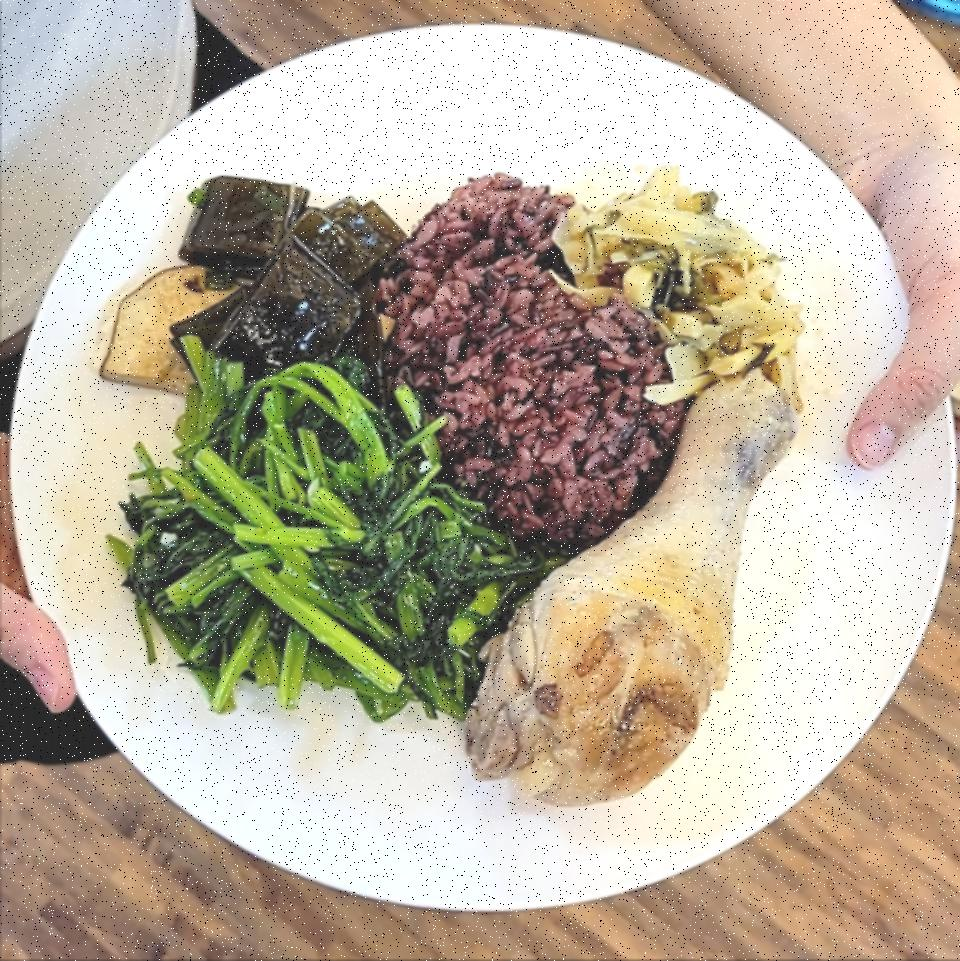plate: (8, 11, 960, 922)
purple rice: (400, 176, 684, 548)
side dish: (125, 358, 492, 720), (96, 176, 406, 411), (557, 177, 812, 382)
small herbal chicken leg: (464, 372, 806, 811)
